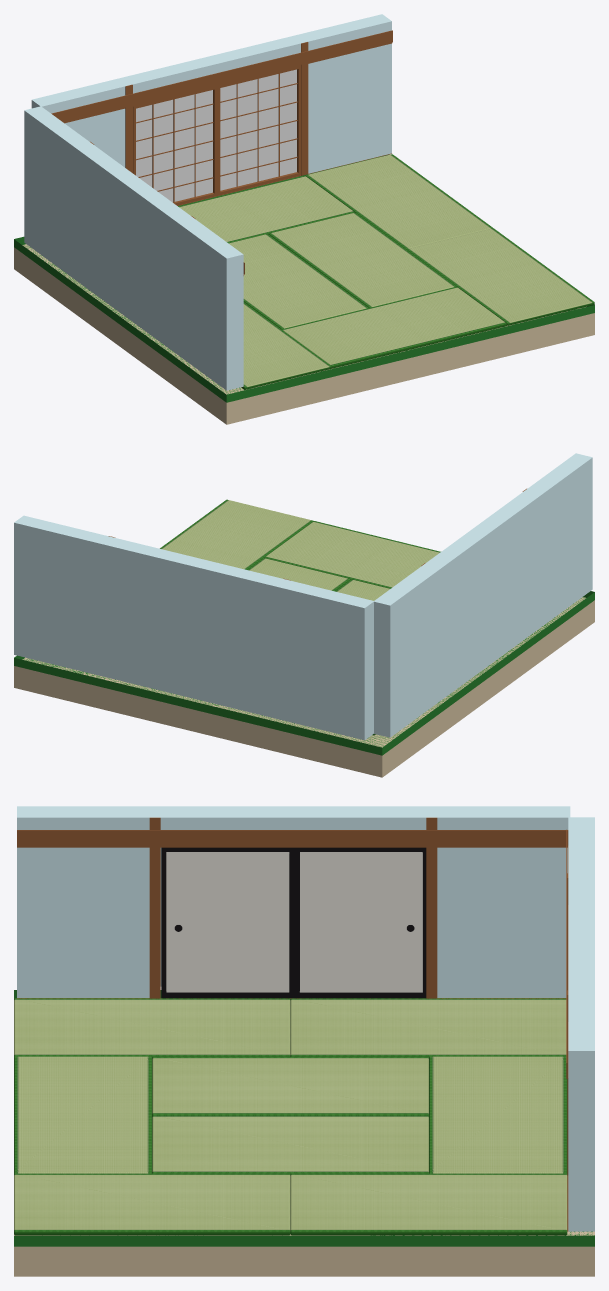
The model's file is washitsu.glb.
3 views of the same model, one above another, from view 1: azimuth 30°, elevation 25°; view 2: azimuth 150°, elevation 25°; view 3: azimuth 270°, elevation 25° (orthographic). The views are drawn at different scales.
Parts seen in each view (by area): view 1: Wall.001, Wall, Floor, Tatami.005, Tatami.003, Tatami.007, Tatami.002, Plane.001, Plane, Tatami.006, Tatami.004, Carpet (+7 smaller); view 2: Wall, Wall.001, Floor, Carpet, Tatami.005, Tatami.003, Tatami.007, Tatami.006; view 3: Wall.001, Cube.004, Cube.005, Floor, Tatami.002, Tatami.003, Tatami.005, Tatami.004, Tatami.001, Tatami.006, Tatami.007, Tatami (+2 smaller).
Part boxes in pixels (x1,y1,x2,y2): Wall.001: (24,106,244,390); Wall: (31,14,392,205); Floor: (14,244,594,424); Tatami.005: (282,286,506,368); Tatami.003: (406,228,594,325); Tatami.007: (268,212,456,307); Tatami.002: (305,154,492,249); Plane.001: (220,69,296,190); Plane: (136,90,212,202); Tatami.006: (229,234,368,329); Tatami.004: (178,175,354,243); Carpet: (14,154,594,402); Wall: (14,515,373,740); Wall.001: (374,453,592,737); Floor: (14,597,594,777); Carpet: (14,591,594,755); Tatami.005: (264,521,440,588); Tatami.003: (160,499,313,569); Tatami.007: (247,558,350,591); Tatami.006: (335,579,389,600); Wall.001: (17,806,570,998); Cube.004: (161,847,293,998); Cube.005: (294,847,426,998); Floor: (14,1231,594,1276); Tatami.002: (290,1173,567,1235); Tatami.003: (14,1173,290,1235); Tatami.005: (14,1056,152,1173); Tatami.004: (429,1056,567,1173); Tatami.001: (14,998,290,1057); Tatami.006: (152,1057,428,1115); Tatami.007: (152,1115,428,1174); Tatami: (290,998,566,1057).
Size of the model in its own units: 5.25 by 2.25 by 5.25.
Materials: 6 (2 with a texture image).
